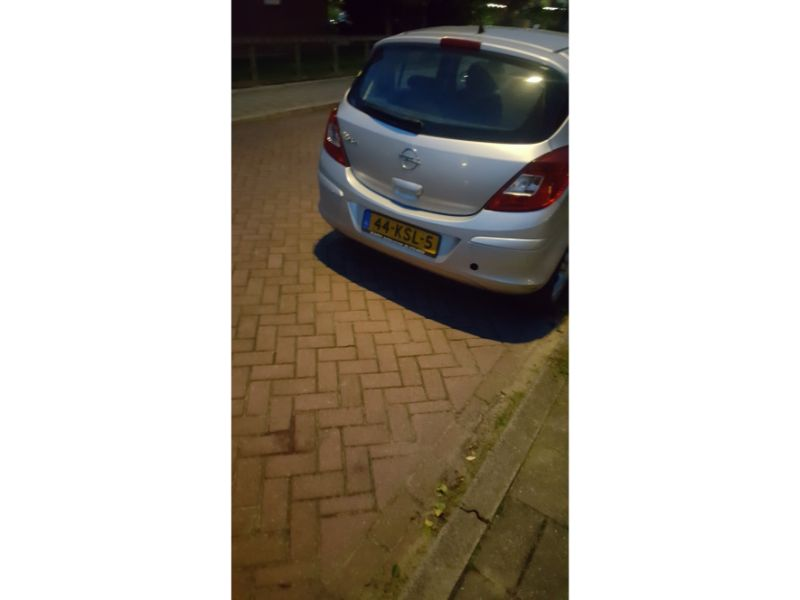kenteken: (358, 212, 437, 259)
